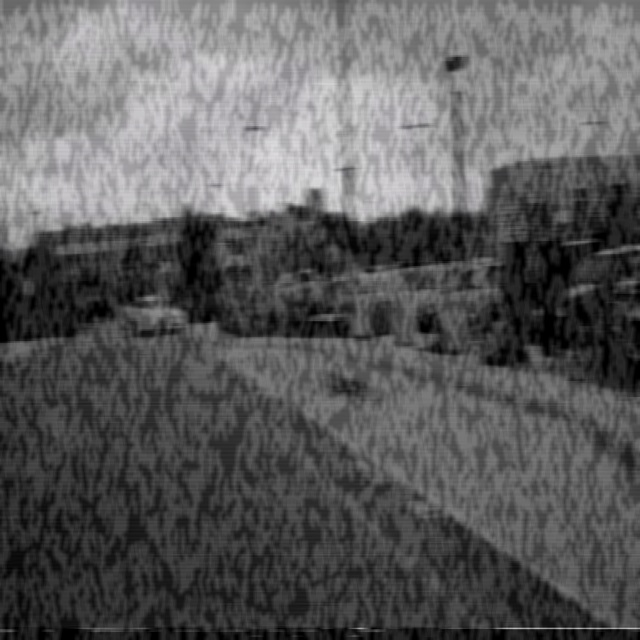stop: (212, 236, 228, 264)
